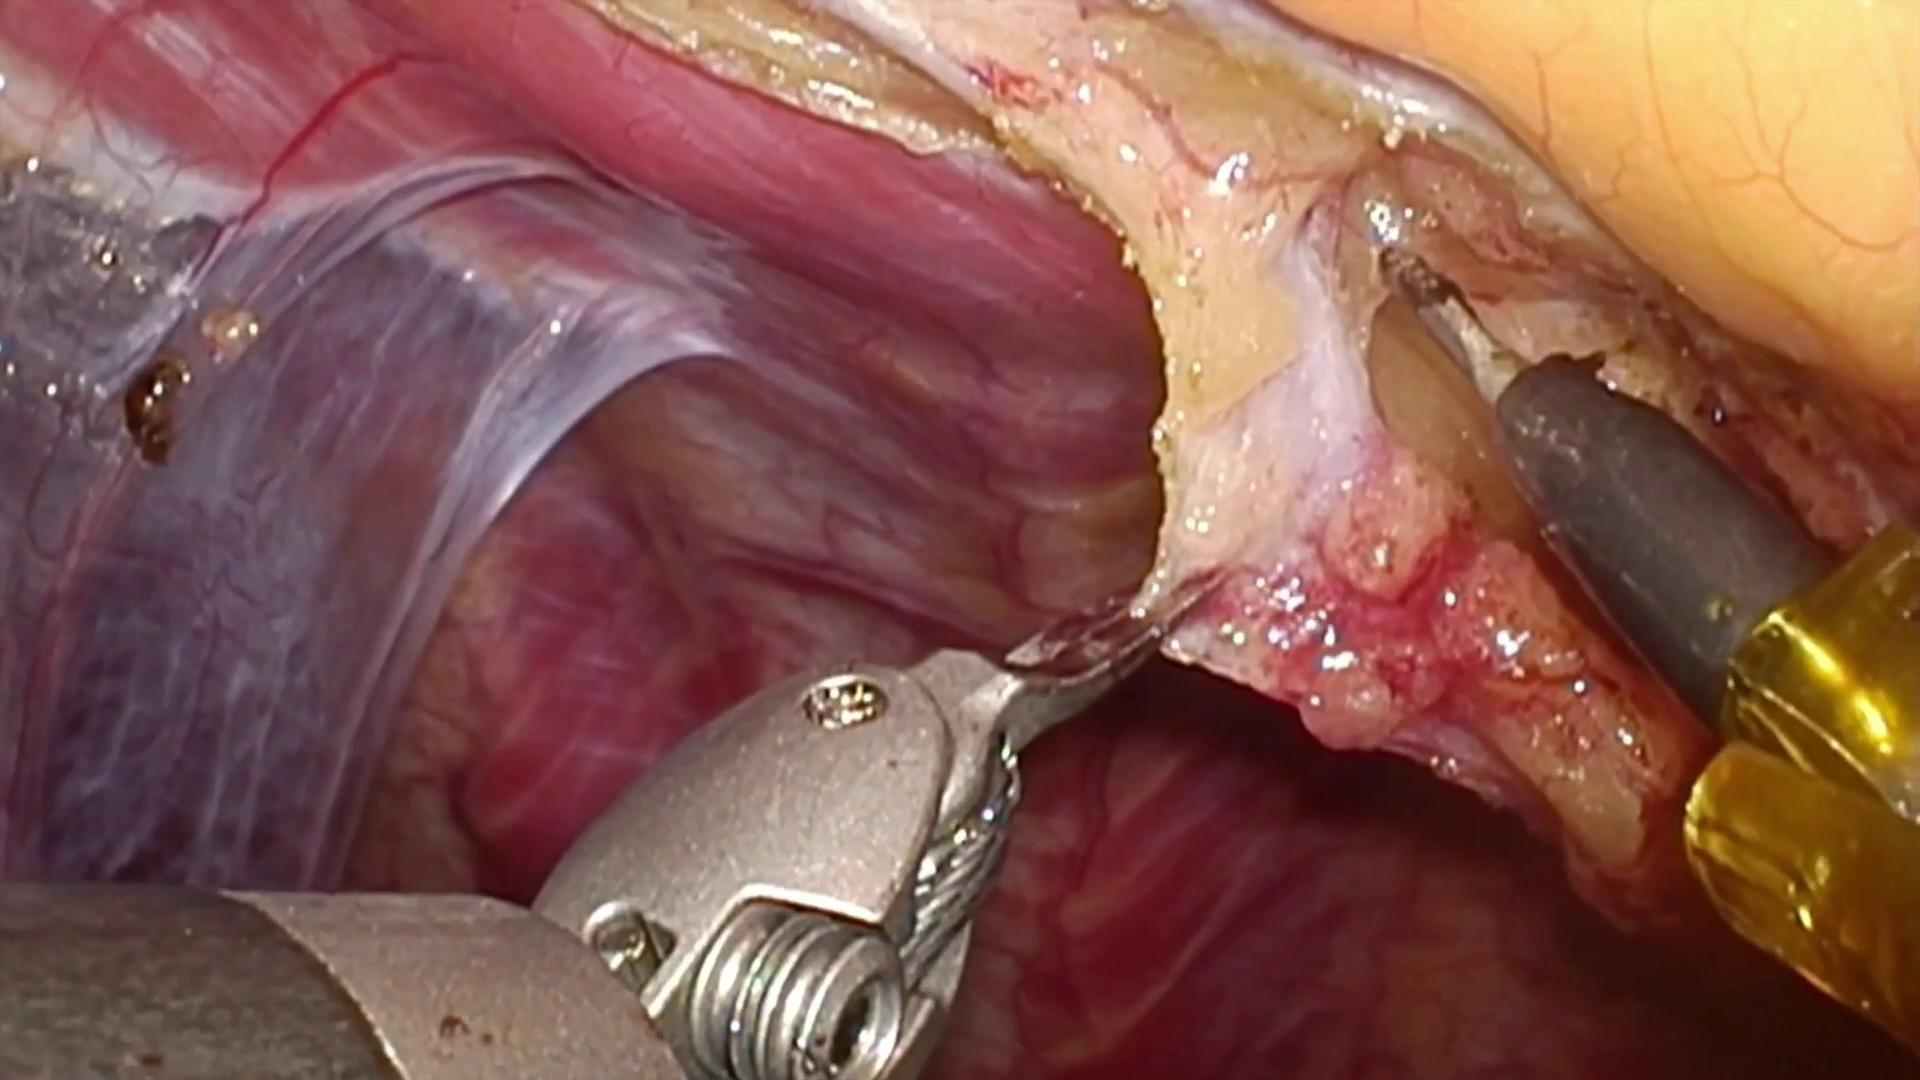Cautery_Spatula: (1385, 240, 1842, 727)
Debakey: (910, 553, 1230, 785)
